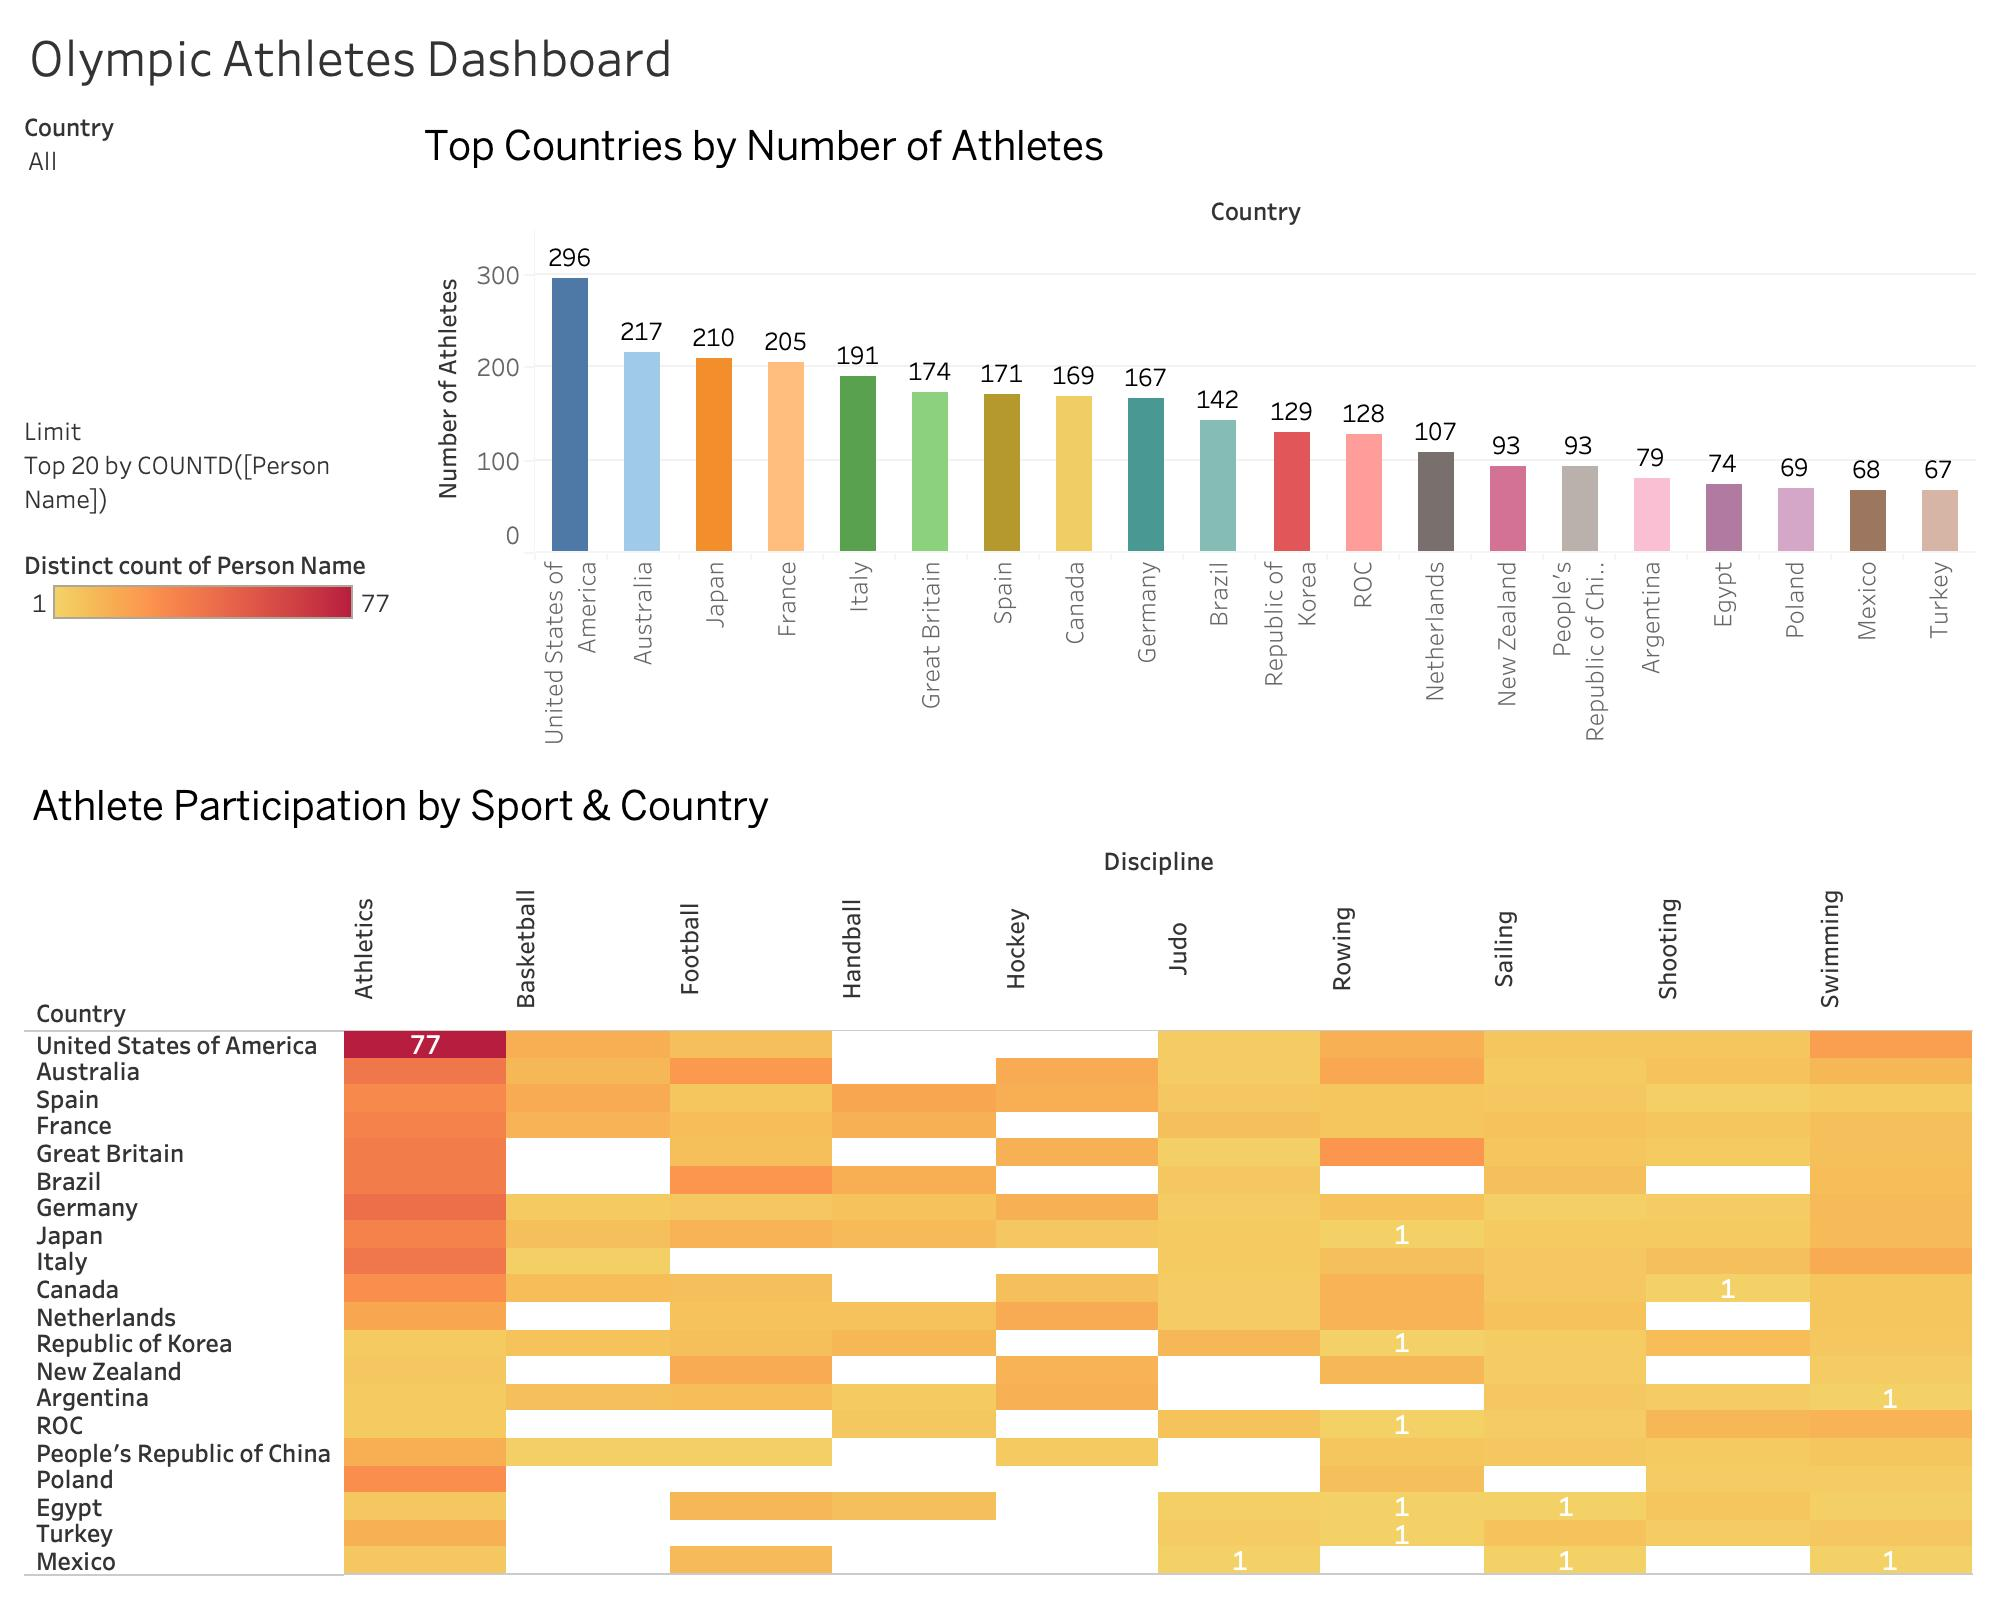

The page's visual inventory and layout, read from the dashboard file:
{"tool":"tableau","page":{"name":"Olympic Athletes Dashboard","canvas":[1000,800],"ordinal":0},"visuals":[{"type":"title","box":[8,8,984,42]},{"type":"filter","title":"1","param":"[federated.13x9w6b19y5r9n1714rtf1fw7azf].[none:Country:nk]","box":[8,50,196.1,216]},{"type":"worksheet","title":"1","mark":"Bar","rows":["PersonName"],"cols":["Country"],"box":[204.1,50,787.9,330.3]},{"type":"legend","title":"2","param":"[federated.13x9w6b19y5r9n1714rtf1fw7azf].[ctd:PersonName:qk]","box":[8,266,196.1,114.3]},{"type":"worksheet","title":"2","mark":"Square","rows":["Country"],"cols":["Discipline"],"box":[8,380.3,984,411.7]}]}

Visuals, with their boxes in screenshot pixels (x1, y1, x2, y2), scaled from the page's 1000x800 canvas onto the 2000x1600 screenshot:
title: crop(16, 16, 1984, 100)
"1" filter: crop(16, 100, 408, 532)
"1" worksheet (Bar marks): crop(408, 100, 1984, 761)
"2" legend: crop(16, 532, 408, 761)
"2" worksheet (Square marks): crop(16, 761, 1984, 1584)
